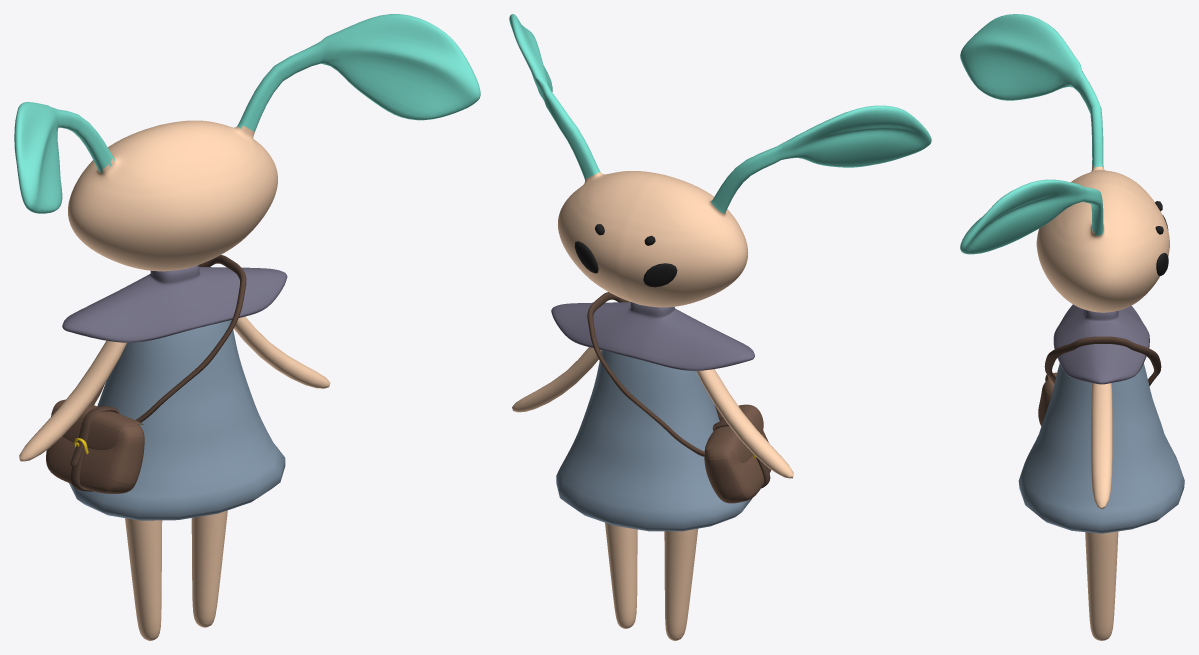
File: GGJ-Character-Individual.fbx
3 views of the same model, side by side, from view 1: azimuth 30°, elevation 25°; view 2: azimuth 150°, elevation 25°; view 3: azimuth 270°, elevation 25° (orthographic). The views are drawn at different scales.
Parts seen in each view (by area): view 1: Cube.008, Cube, Cube.003, Bag, Cube.001, Cube.002, Cube.005, Cube.004, BézierCurve.001; view 2: Cube.008, Cube, Cube.003, Bag, Cube.001, Cube.002, Cube.005, Cube.004, BézierCurve.001, Cube.006; view 3: Cube.008, Cube, Cube.003, Cube.002, Cube.004, BézierCurve.001, Bag.
Part boxes in pixels (<box>): Cube.008: <box>14,14,480,271</box>; Cube: <box>69,320,285,520</box>; Cube.003: <box>62,265,287,342</box>; Bag: <box>46,399,144,493</box>; Cube.001: <box>125,518,162,640</box>; Cube.002: <box>191,510,227,627</box>; Cube.005: <box>19,340,126,461</box>; Cube.004: <box>231,316,330,388</box>; BézierCurve.001: <box>90,255,246,422</box>; Cube.008: <box>509,14,931,307</box>; Cube: <box>556,350,752,531</box>; Cube.003: <box>551,302,754,370</box>; Bag: <box>704,404,770,503</box>; Cube.001: <box>664,528,697,640</box>; Cube.002: <box>605,522,637,628</box>; Cube.005: <box>696,369,793,478</box>; Cube.004: <box>512,347,601,412</box>; BézierCurve.001: <box>587,292,722,456</box>; Cube.006: <box>643,263,677,287</box>; Cube.008: <box>960,14,1169,312</box>; Cube: <box>1018,363,1184,533</box>; Cube.003: <box>1053,304,1149,384</box>; Cube.002: <box>1085,531,1118,640</box>; Cube.004: <box>1091,383,1112,509</box>; BézierCurve.001: <box>1044,336,1161,386</box>; Bag: <box>1038,372,1056,426</box>.
Size of the model in its own units: 160 by 201 by 77.61.
